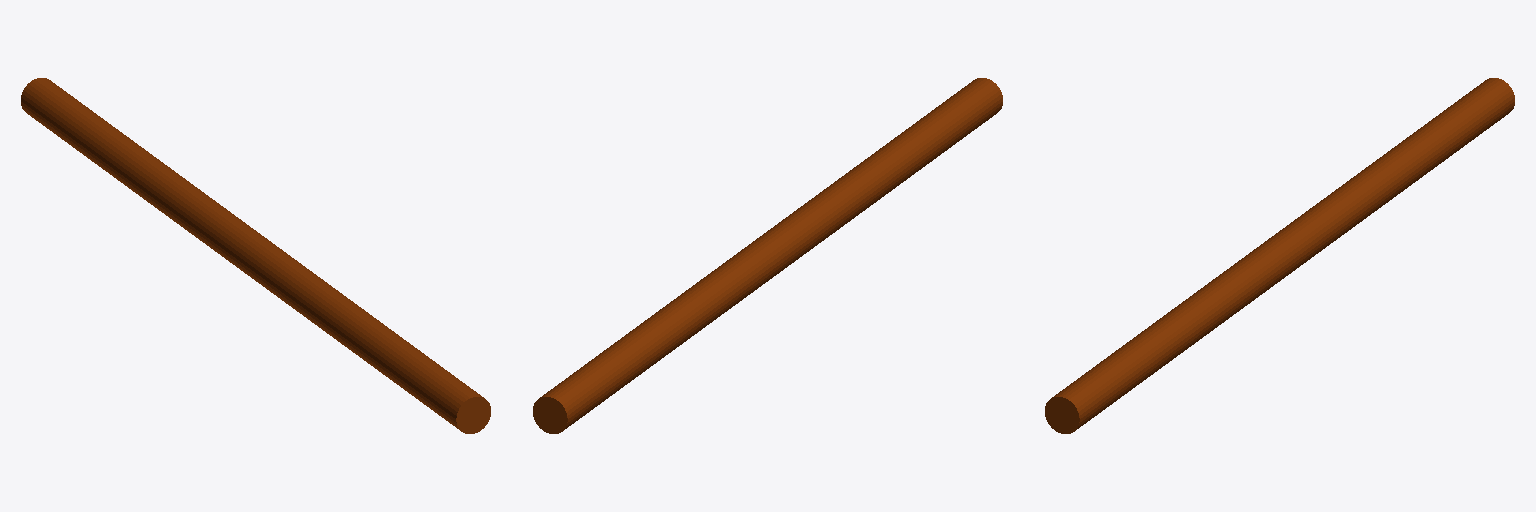
robot.urdf — cylinder:
<?xml version="1.0" ?>
<!-- =================================================================================== -->
<!-- |    This document was autogenerated by xacro from cylinder.xacro                 | -->
<!-- |    EDITING THIS FILE BY HAND IS NOT RECOMMENDED                                 | -->
<!-- =================================================================================== -->
<robot name="cylinder">
  <link name="world"/>
  <link name="base">
    <visual>
      <origin rpy="1.57079633 0 0" xyz="0 0 0"/>
      <geometry>
        <cylinder length="7.07106781185" radius="0.165"/>
      </geometry>
      <material name="cylinder_material">
        <color rgba="0.545 0.271 0.075 1.0"/>
        <texture filename="../textures/tree_bark.jpg"/>
      </material>
    </visual>
    <collision>
      <origin rpy="1.57079633 0 0" xyz="0 0 0"/>
      <geometry>
        <cylinder length="7.07106781185" radius="0.165"/>
      </geometry>
    </collision>
    <inertial>
      <origin rpy="0 0 0" xyz="0 0 0"/>
      <mass value="1"/>
      <inertia ixx="4.173472916648429" ixy="0.0" ixz="0.0" iyy="4.173472916648429" iyz="0.0" izz="24.999999999890573"/>
    </inertial>
  </link>
  <joint name="base_joint" type="fixed">
    <parent link="world"/>
    <child link="base"/>
    <origin rpy="0 0 0" xyz="0.0 0.0 0.0"/>
  </joint>
</robot>

--- Render facts (derived) ---
3 views of the same robot in one strip: view 1: azimuth 30°, elevation 25°; view 2: azimuth 150°, elevation 25°; view 3: azimuth 330°, elevation 25° (orthographic).
Model cylinder with 2 links and 1 joints (1 fixed), rooted at world, posed every joint at zero.
Links seen in each view (by area): view 1: base; view 2: base; view 3: base.
Link boxes in pixels (x1,y1,x2,y2): base: [21, 78, 490, 433]; base: [533, 78, 1002, 433]; base: [1045, 78, 1514, 433].
Size in the robot's own frame: 0.33 by 7.07 by 0.33 metres.
Geometry: primitives only (box / cylinder / sphere), no mesh files.
